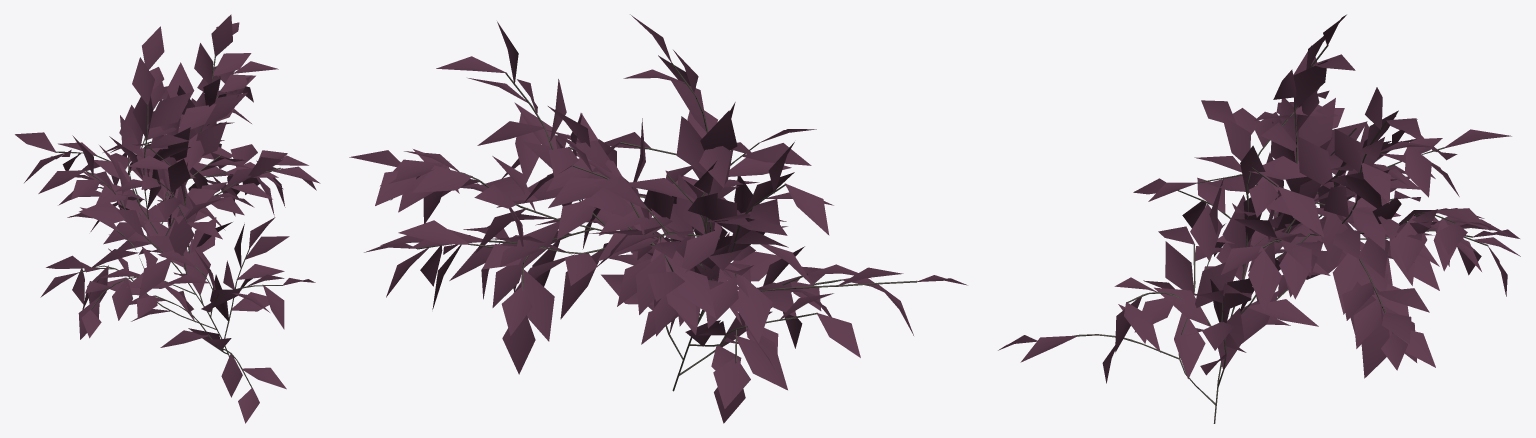
Rendered from Tree 7.glb.
3 renders of one model, left to right at view 1: azimuth 30°, elevation 25°; view 2: azimuth 150°, elevation 25°; view 3: azimuth 270°, elevation 25°, orthographic. The views are drawn at different scales.
Parts seen in each view (by area): view 1: Tree_Prunus-cerasifera_A_summer.005; view 2: Tree_Prunus-cerasifera_A_summer.005; view 3: Tree_Prunus-cerasifera_A_summer.005.
Boxes of the visible parts, bbox=[...] form: Tree_Prunus-cerasifera_A_summer.005: bbox=[15, 14, 320, 423]; Tree_Prunus-cerasifera_A_summer.005: bbox=[349, 14, 967, 423]; Tree_Prunus-cerasifera_A_summer.005: bbox=[998, 14, 1520, 423].
Bounding box in the file's own units: 1.31 × 1.19 × 1.43.
